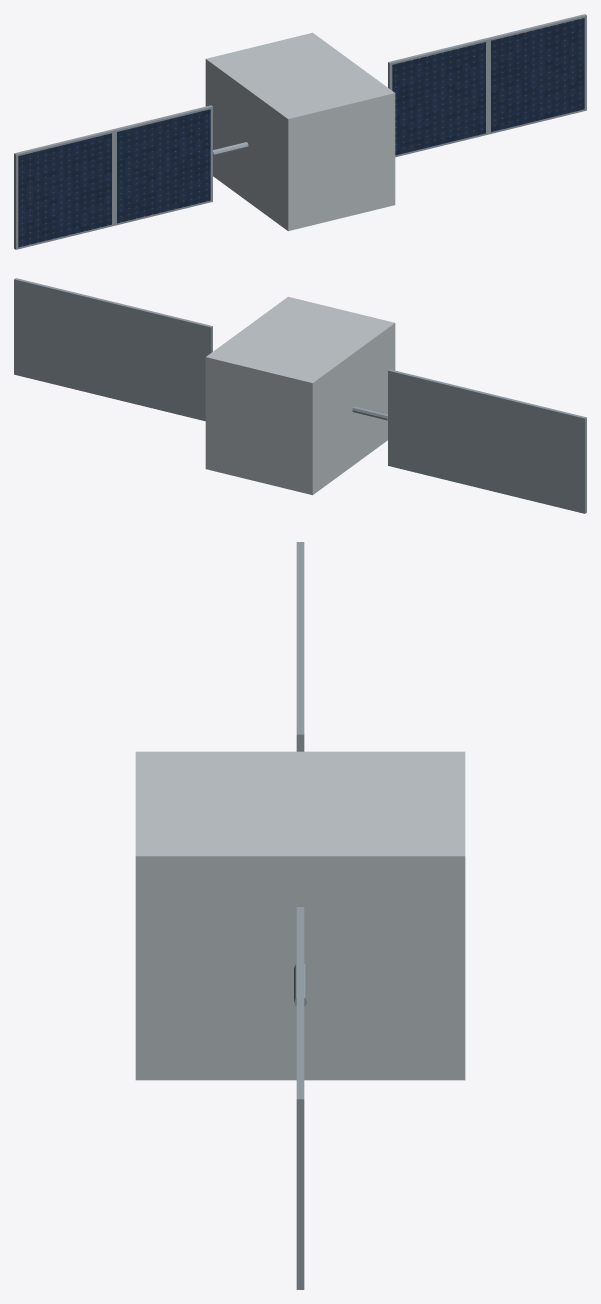
Rendered from ref-prsc-eo-68835.glb.
3 renders of one model, top to bottom at view 1: azimuth 30°, elevation 25°; view 2: azimuth 150°, elevation 25°; view 3: azimuth 270°, elevation 25°, orthographic. The views are drawn at different scales.
Parts seen in each view (by area): view 1: Photovoltaic laminates (×4), Spacecraft body, Array frame (×4); view 2: Array frame (×4), Spacecraft body; view 3: Spacecraft body, Array frame (×2).
Boxes of the visible parts, <box> form: Photovoltaic laminates (×4): <box>18,18,584,247</box>; Spacecraft body: <box>205,32,395,231</box>; Array frame (×4): <box>14,14,586,249</box>; Array frame (×4): <box>14,278,586,513</box>; Spacecraft body: <box>205,296,395,495</box>; Spacecraft body: <box>135,751,465,1080</box>; Array frame (×2): <box>296,638,304,1289</box>.
Bounding box in the file's own units: 8 × 1.5 × 2.
Materials: 3 (1 with a texture image).
